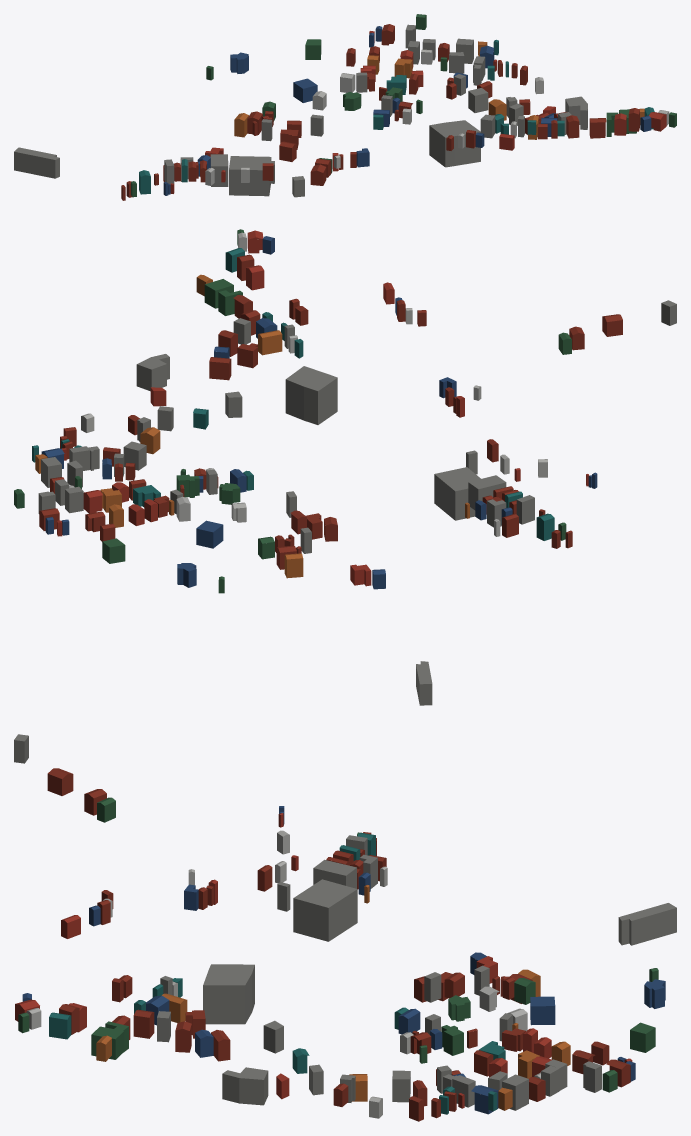
Rendered from near-16-54717-29742.30731dbe.glb.
The picture shows the model from 3 angles, top to bottom: view 1: azimuth 30°, elevation 25°; view 2: azimuth 150°, elevation 25°; view 3: azimuth 270°, elevation 25°; orthographic projection. The views are drawn at different scales.
Bounding box in the file's own units: 595 × 216 × 607.
